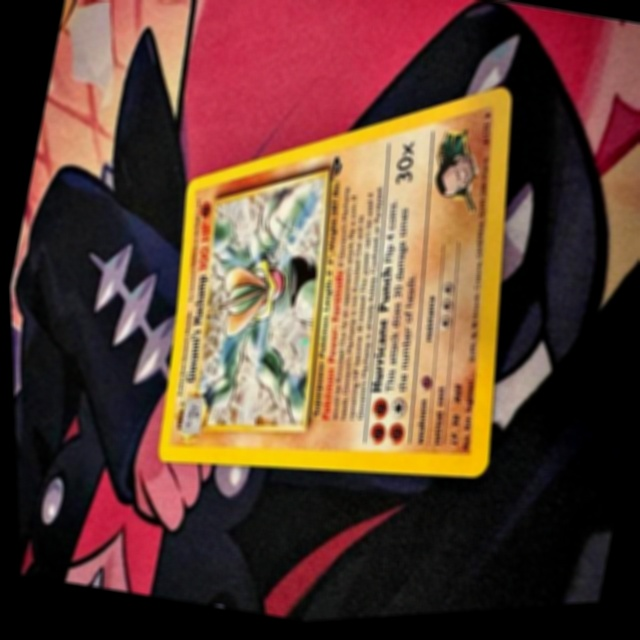card: (153, 91, 511, 483)
